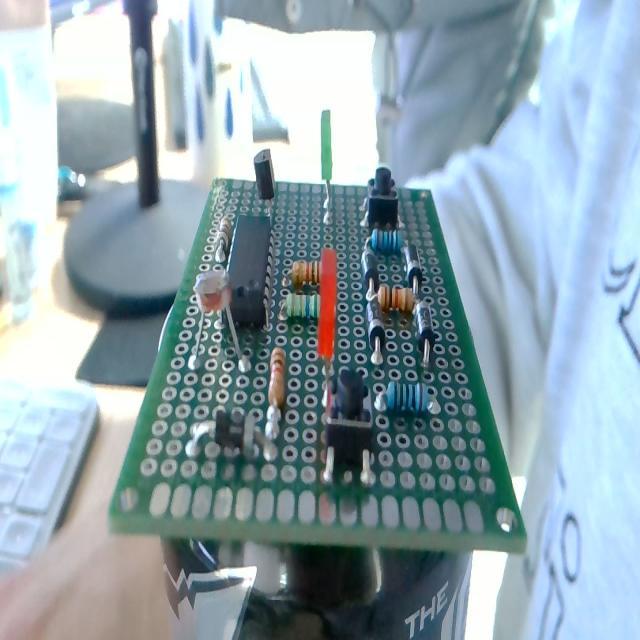IC: (224, 206, 281, 326)
cds: (189, 266, 244, 372)
diode: (193, 404, 277, 481), (362, 295, 390, 377), (411, 296, 435, 366), (398, 238, 424, 296), (359, 238, 380, 300)
led: (315, 244, 339, 411), (318, 109, 338, 222)
resistor: (377, 368, 439, 418), (266, 338, 288, 418), (368, 283, 424, 310), (366, 222, 409, 255), (214, 211, 232, 269)
switch: (320, 371, 378, 492), (360, 164, 404, 230)
transistor: (250, 148, 281, 226)
